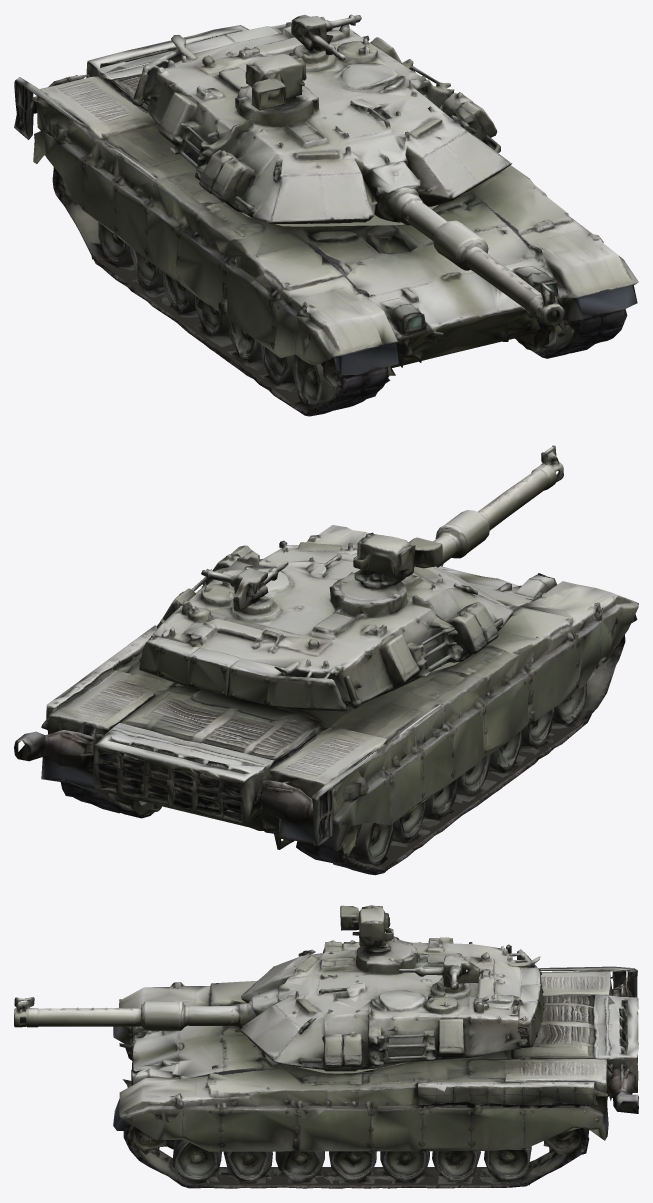
File: tank-abrams-sepv2.glb
3 renders of one model, top to bottom at view 1: azimuth 30°, elevation 25°; view 2: azimuth 150°, elevation 25°; view 3: azimuth 270°, elevation 25°, orthographic. The views are drawn at different scales.
Parts seen in each view (by area): view 1: Hull, Turret, Gun; view 2: Hull, Turret, Gun; view 3: Hull, Turret, Gun.
Boxes of the visible parts, box(x1,y1,x2,y2) form: Hull: box(14, 25, 638, 416); Turret: box(132, 14, 511, 225); Gun: box(406, 203, 564, 327); Hull: box(14, 525, 638, 875); Turret: box(139, 532, 513, 711); Gun: box(433, 445, 563, 567); Hull: box(113, 966, 638, 1188); Turret: box(230, 905, 544, 1071); Gun: box(14, 997, 233, 1030).
Size of the model in its own units: 3.52 by 2.65 by 7.57.
Materials: 3 (1 with a texture image).
